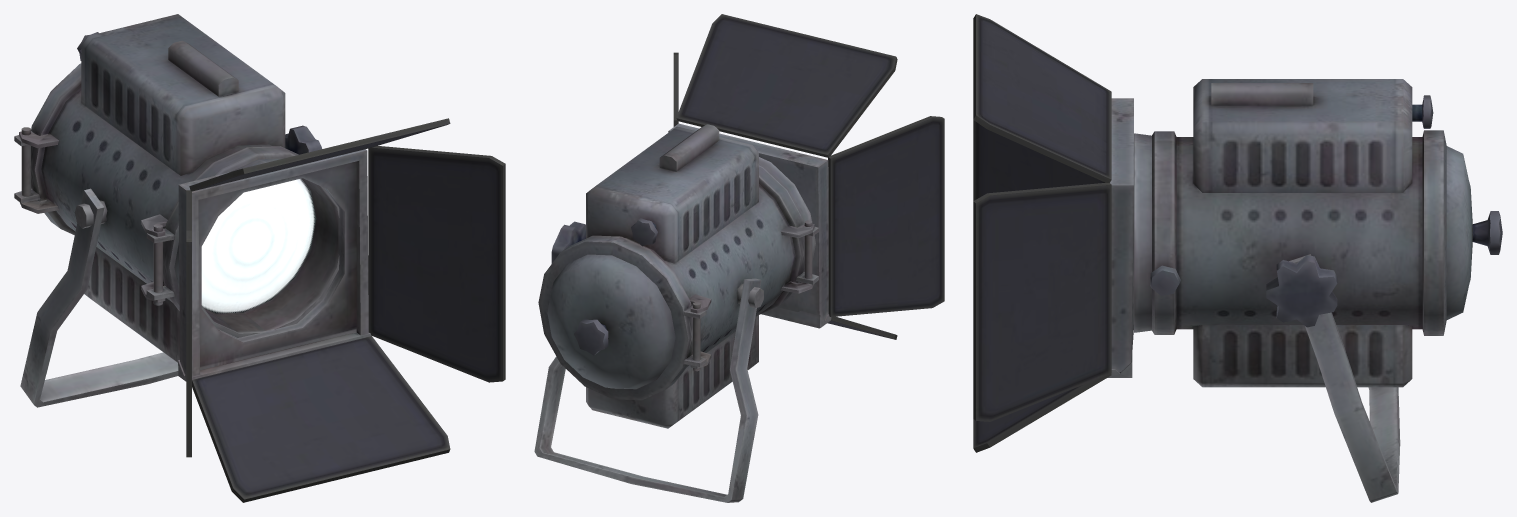
Rendered from spotlight.glb.
3 views of the same model, side by side, from view 1: azimuth 30°, elevation 25°; view 2: azimuth 150°, elevation 25°; view 3: azimuth 270°, elevation 25° (orthographic). The views are drawn at different scales.
Size of the model in its own units: 0.5514 by 0.6339 by 0.7841.
Materials: 1 (1 with a texture image).
